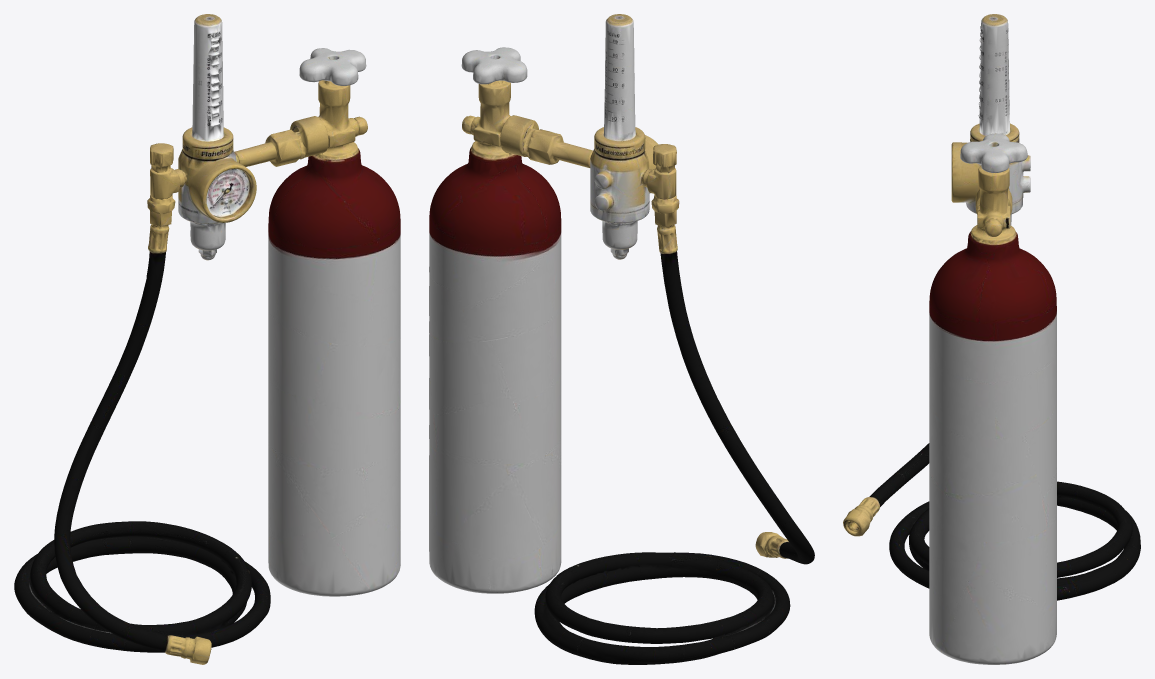
The model's file is n2-reg-hose.glb.
3 views of the same model, side by side, from view 1: azimuth 30°, elevation 25°; view 2: azimuth 150°, elevation 25°; view 3: azimuth 270°, elevation 25° (orthographic). The views are drawn at different scales.
Size of the model in its own units: 1.2 by 1.9 by 0.9111.
Materials: 1 (1 with a texture image).
